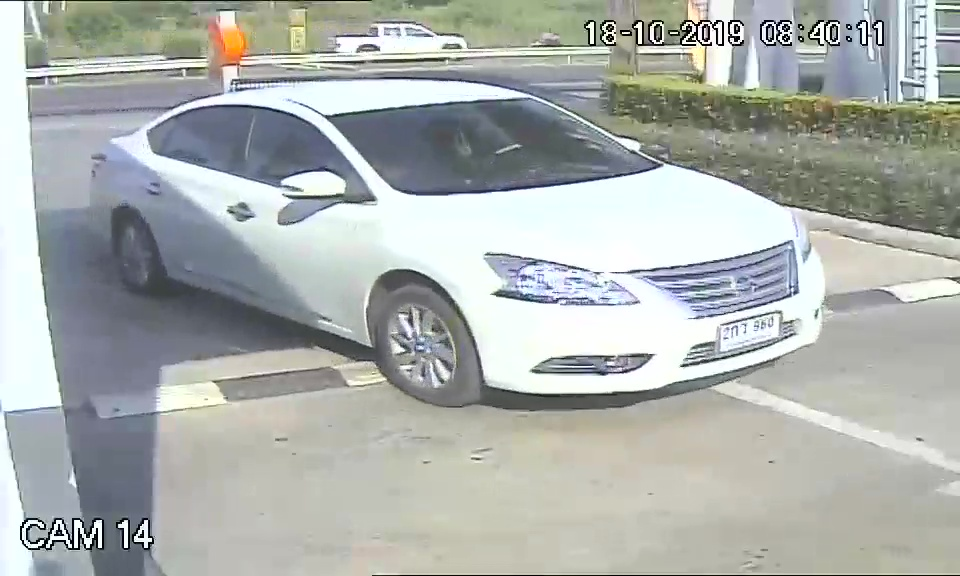sedan: (87, 76, 830, 407)
